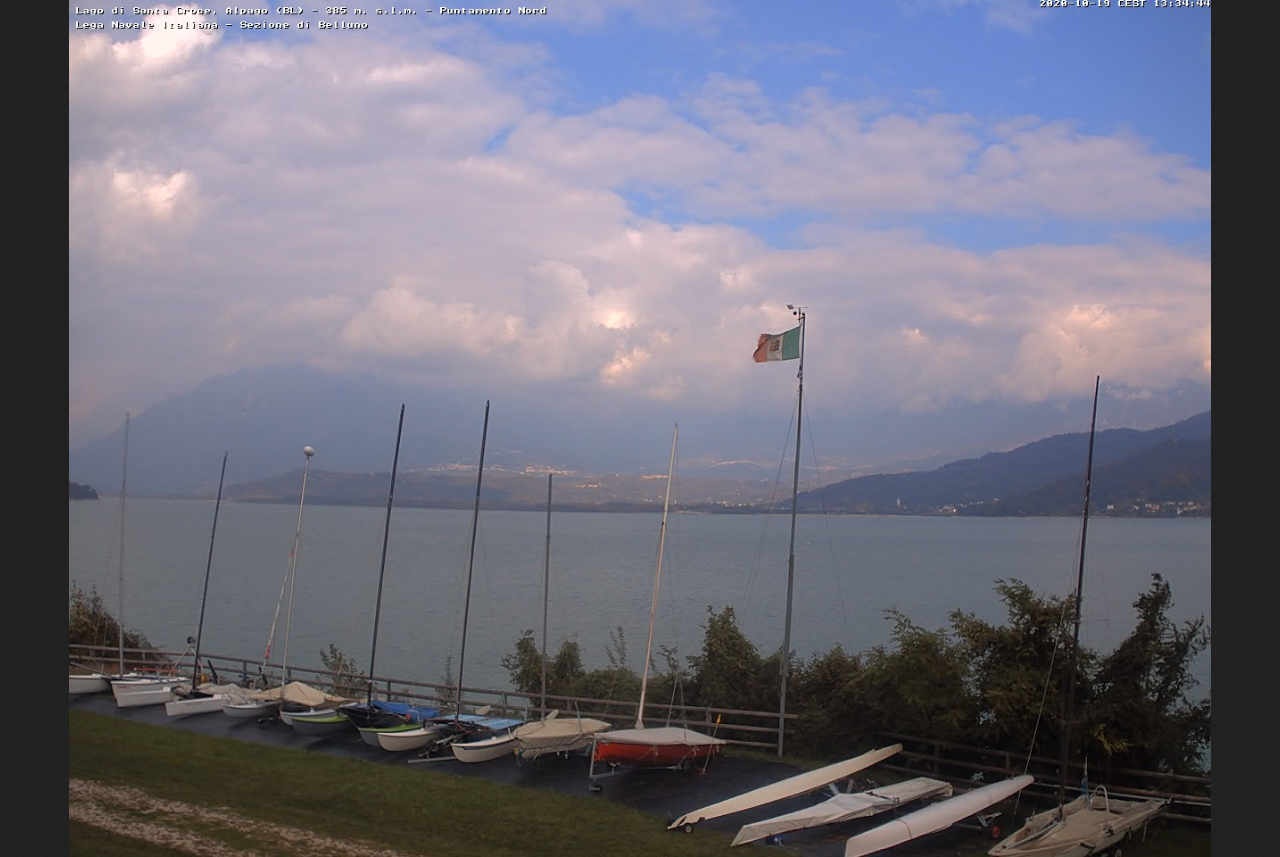yes: (748, 316, 810, 369)
